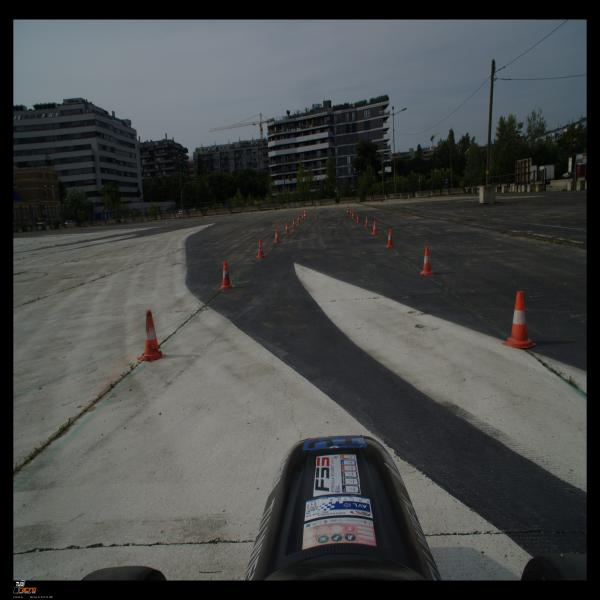large_orange_cone: (346, 205, 350, 214), (304, 209, 306, 218)
orange_cone: (502, 291, 537, 348), (137, 310, 167, 362), (219, 261, 234, 289), (420, 246, 434, 275), (255, 239, 266, 258), (386, 229, 395, 247), (372, 221, 378, 235), (274, 229, 280, 243), (364, 216, 370, 228), (285, 222, 289, 234), (292, 218, 296, 228), (357, 214, 360, 222), (352, 211, 355, 219), (297, 215, 300, 223), (302, 212, 304, 220), (350, 209, 352, 216)
